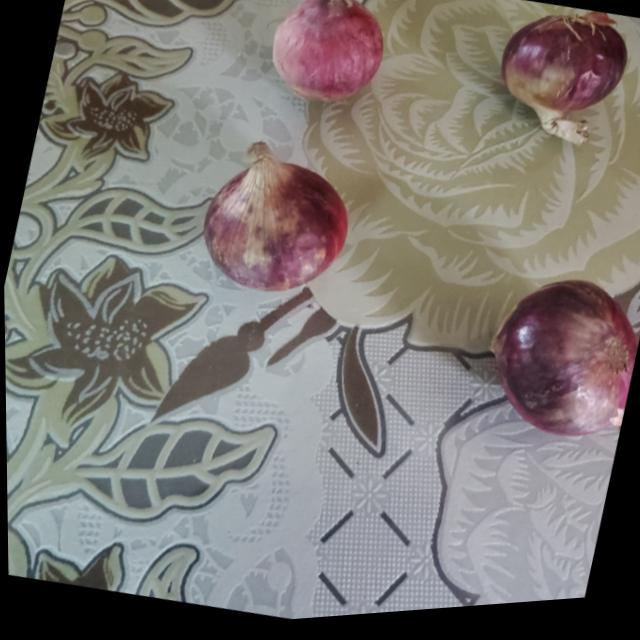onion: (474, 266, 640, 457), (194, 151, 364, 317), (492, 2, 636, 134), (264, 0, 397, 121)
